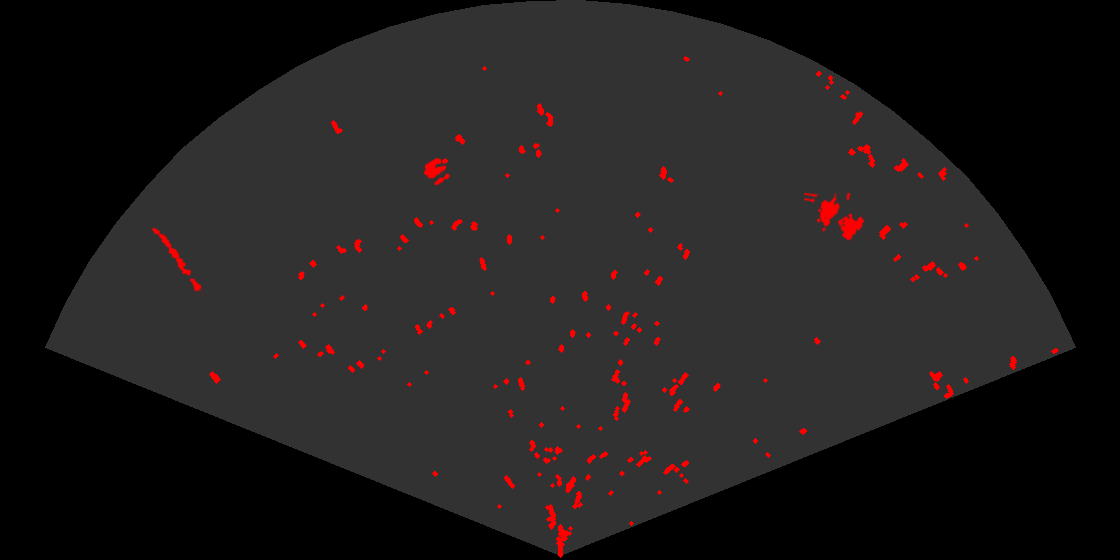ball: (422, 156, 452, 187)
cage: (804, 193, 867, 242)
chain: (150, 226, 207, 297)
